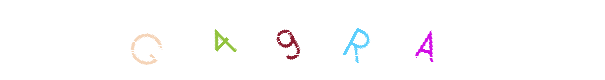4: (248, 0, 328, 80)
9: (262, 0, 342, 80)
A: (386, 0, 466, 80)
G: (195, 0, 275, 80)
R: (316, 0, 396, 80)
